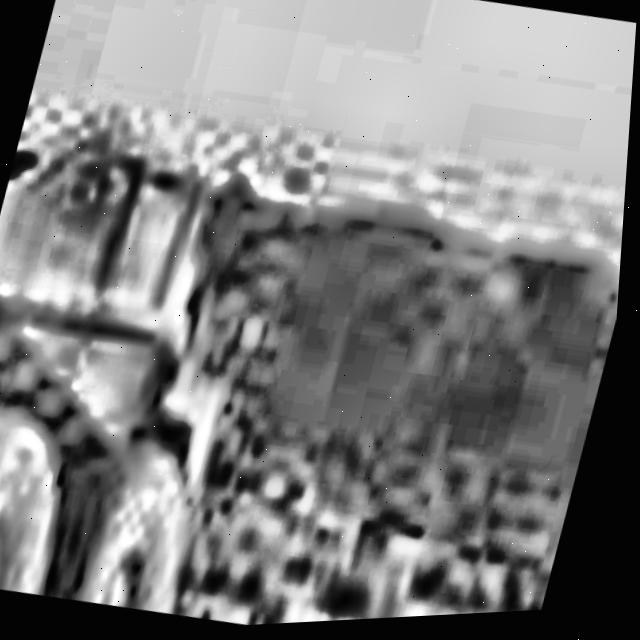dump_truck: (0, 30, 351, 632)
